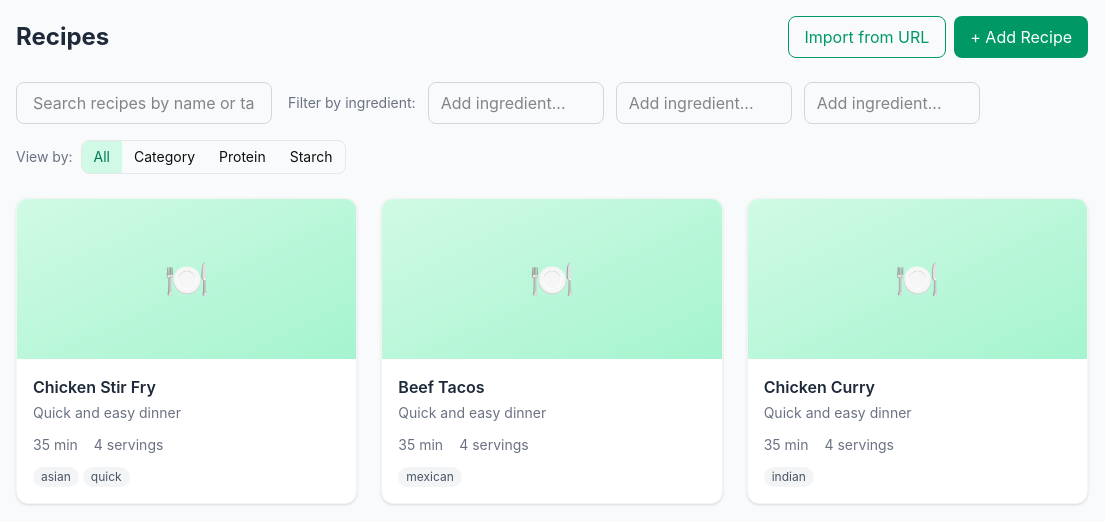
Scenario: Recipes › Filtering › filters recipes by name search query
Expected: the heading "Chicken Stir Fry" is shown, top-left (33, 377), bottom-right (156, 397)
Expected: the heading "Beef Tacos" is shown, top-left (398, 377), bottom-right (484, 397)
Type "chicken" into the field with placeholder "Search recipes by name or tag..." at (144, 103), box top-left (16, 82), bottom-right (272, 124)
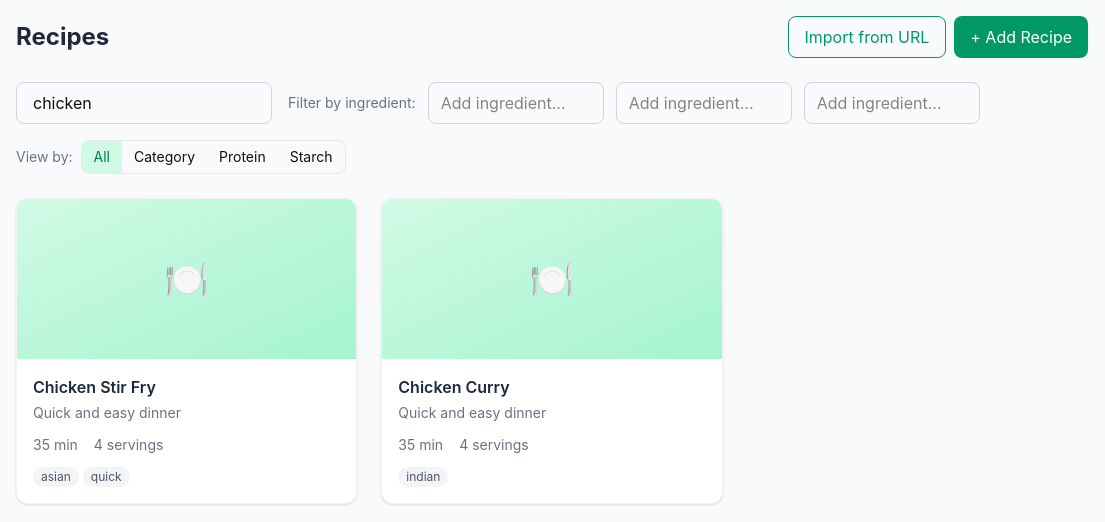
Expected: the heading "Chicken Stir Fry" is shown, top-left (33, 377), bottom-right (156, 397)
Expected: the heading "Chicken Curry" is shown, top-left (398, 377), bottom-right (510, 397)
Expected: the button "Beef Tacos" is gone
